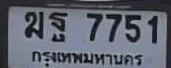1: (147, 15, 157, 42)
5: (124, 14, 140, 42)
7: (105, 13, 121, 41), (86, 12, 102, 39)
A06: (24, 10, 43, 37)
A16: (48, 11, 68, 42)
BKK: (28, 46, 146, 68)
